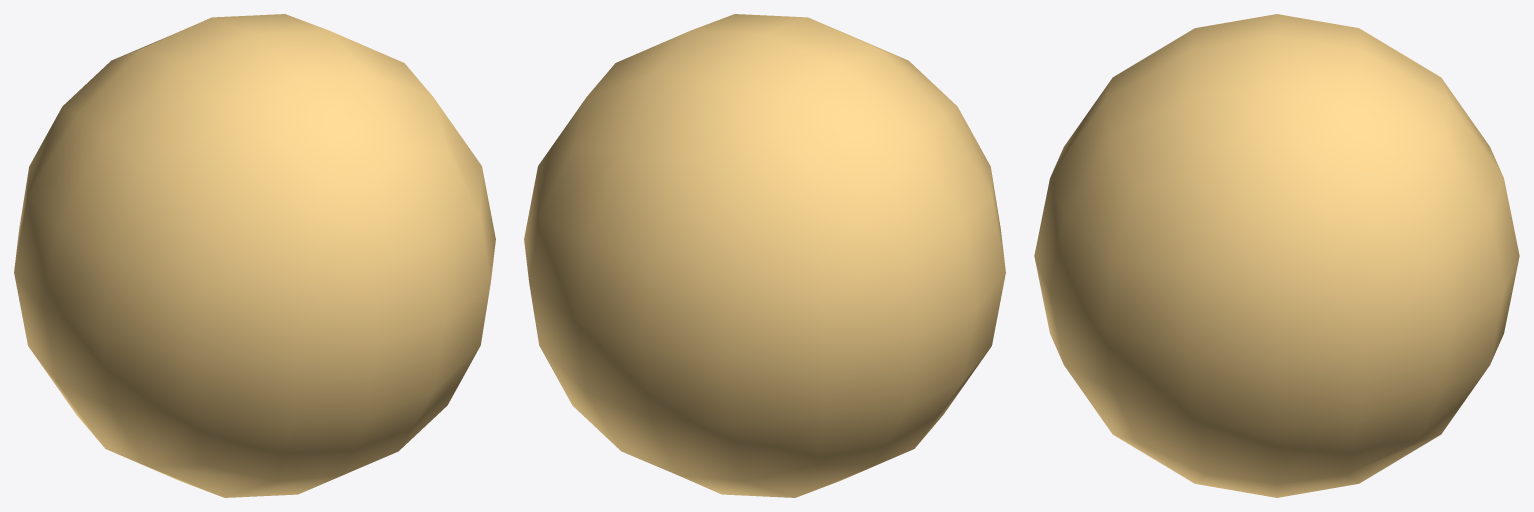
Rendered from 07pear.glb.
3 views of the same model, side by side, from view 1: azimuth 30°, elevation 25°; view 2: azimuth 150°, elevation 25°; view 3: azimuth 270°, elevation 25° (orthographic).
Visible parts, largest first — view 1: 07-pear; view 2: 07-pear; view 3: 07-pear.
Boxes of the visible parts, x1,y1,x2,y2 form: 07-pear: (14,14,495,497); 07-pear: (524,14,1005,497); 07-pear: (1034,14,1519,497).
Bounding box in the file's own units: 9.63 × 9.63 × 9.63.
